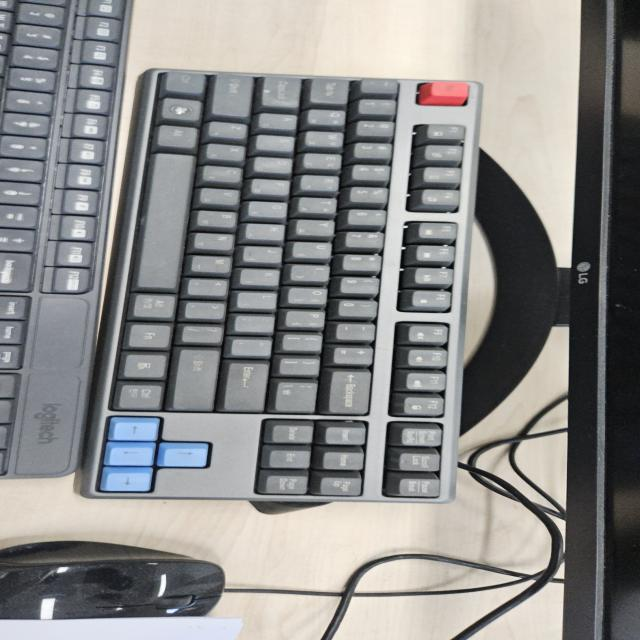Keyboard: (76, 66, 482, 504)
Mouse: (2, 538, 228, 620)
